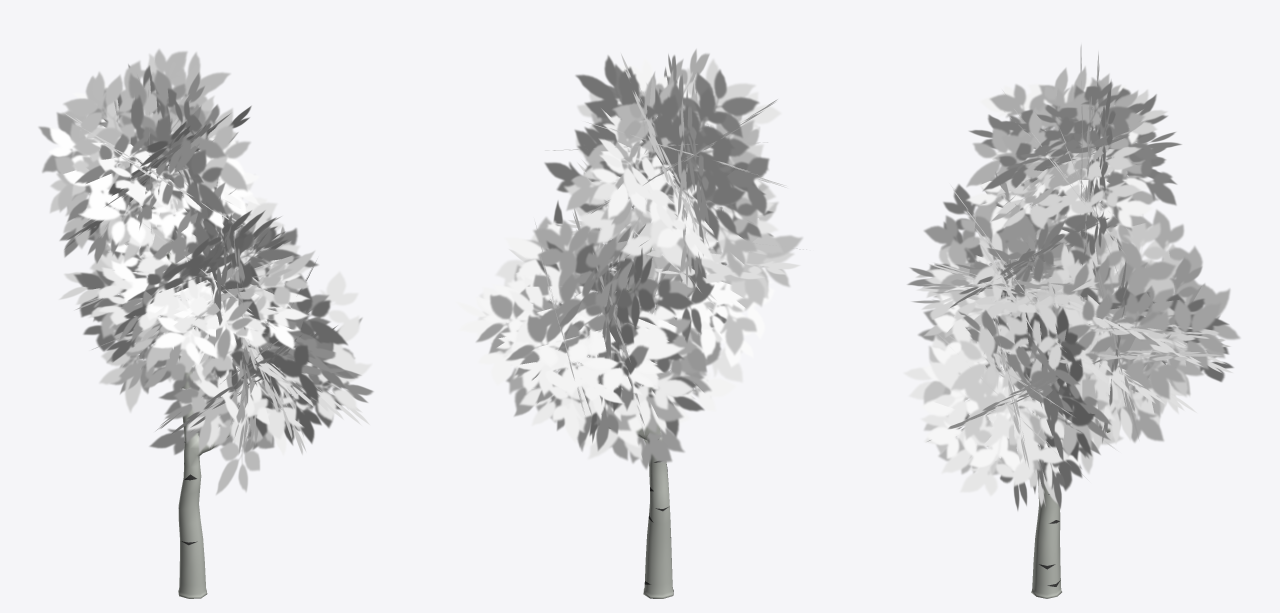
The model's file is tree_stylized_4.glb.
3 renders of one model, left to right at view 1: azimuth 30°, elevation 25°; view 2: azimuth 150°, elevation 25°; view 3: azimuth 270°, elevation 25°, orthographic. The views are drawn at different scales.
Visible parts, largest first — view 1: Canopy, BirchTree_Dead_3; view 2: Canopy, BirchTree_Dead_3; view 3: Canopy, BirchTree_Dead_3.
Part boxes in pixels (x1=…): Canopy: x1=38, y1=48, x2=373, y2=495; BirchTree_Dead_3: x1=147, y1=206, x2=251, y2=598; Canopy: x1=455, y1=49, x2=806, y2=469; BirchTree_Dead_3: x1=581, y1=246, x2=673, y2=598; Canopy: x1=903, y1=45, x2=1240, y2=510; BirchTree_Dead_3: x1=1029, y1=213, x2=1115, y2=598.
Bounding box in the file's own units: 2.68 × 4.42 × 3.01.
3 materials, 1 textured.
